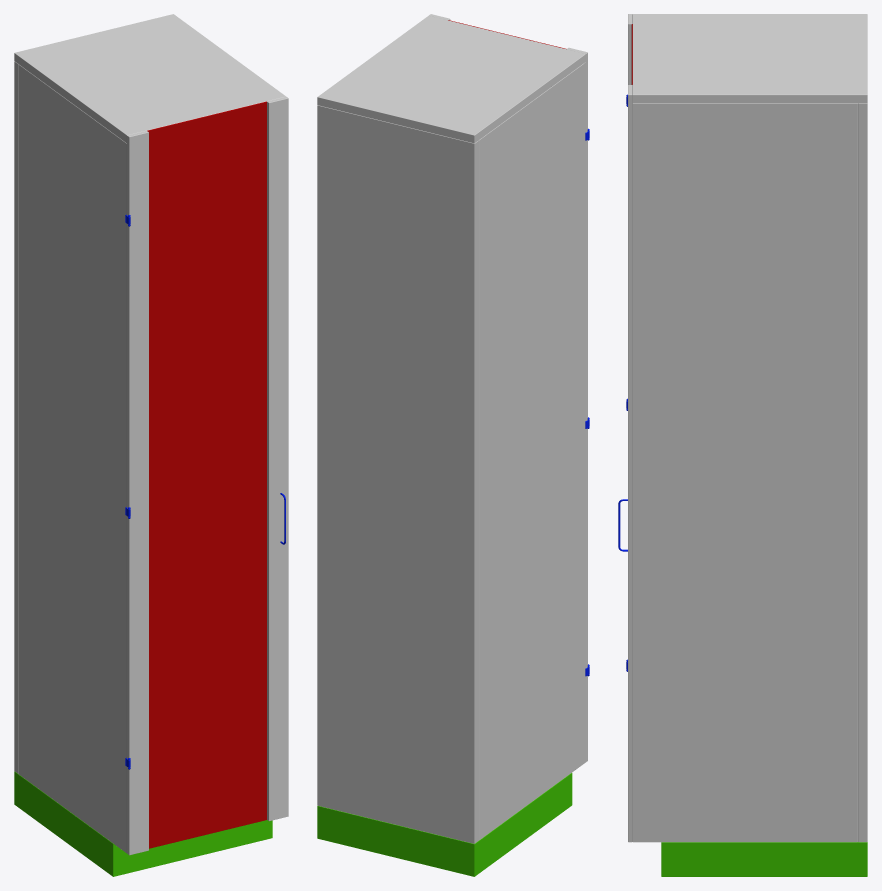
The model's file is Cabinet02.fbx.
The picture shows the model from 3 angles, left to right: view 1: azimuth 30°, elevation 25°; view 2: azimuth 150°, elevation 25°; view 3: azimuth 270°, elevation 25°; orthographic projection. The views are drawn at different scales.
Parts seen in each view (by area): view 1: CabinetDoor, Cabinet02; view 2: Cabinet02, CabinetDoor; view 3: Cabinet02, CabinetDoor.
Boxes of the visible parts, x1,y1,x2,y2 form: CabinetDoor: (127, 96, 288, 855); Cabinet02: (14, 14, 285, 876); Cabinet02: (317, 15, 589, 876); CabinetDoor: (429, 14, 587, 761); Cabinet02: (626, 14, 867, 876); CabinetDoor: (618, 14, 632, 842).
Bounding box in the file's own units: 50.35 × 65 × 225.
